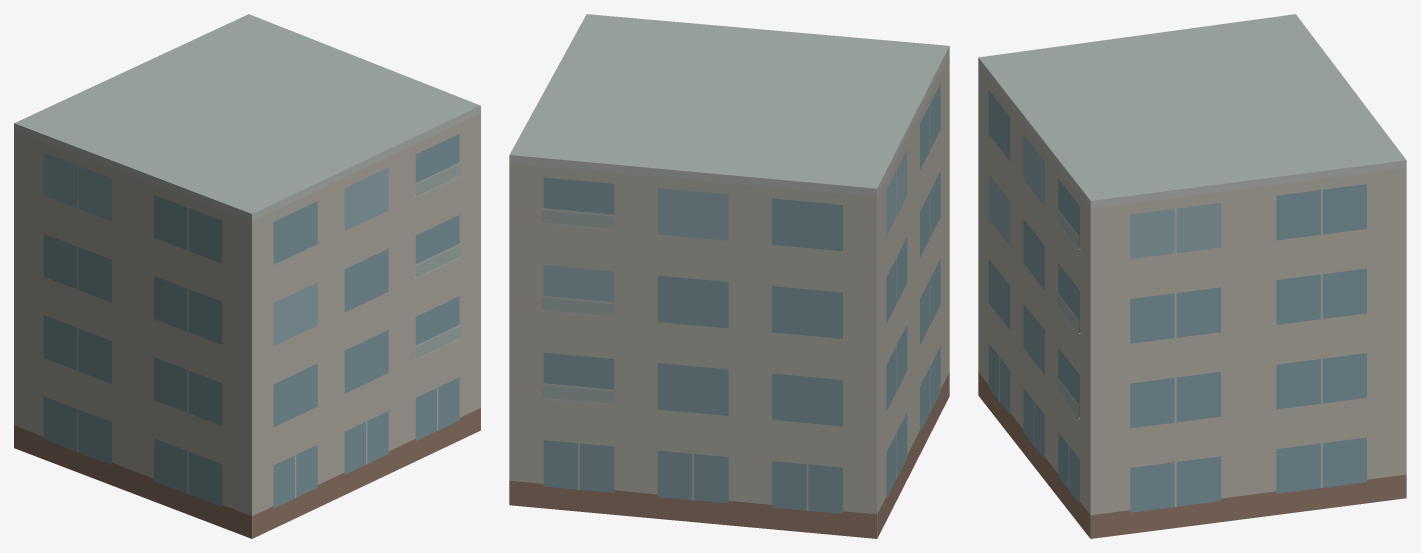
The model's file is survey-upis-32570832.glb.
The picture shows the model from 3 angles, left to right: view 1: azimuth 30°, elevation 25°; view 2: azimuth 150°, elevation 25°; view 3: azimuth 270°, elevation 25°; orthographic projection. The views are drawn at different scales.
Parts seen in each view (by area): view 1: survey-upis-32570832.tmp; view 2: survey-upis-32570832.tmp; view 3: survey-upis-32570832.tmp.
Part boxes in pixels (x1,y1,x2,y2): survey-upis-32570832.tmp: [14, 14, 480, 538]; survey-upis-32570832.tmp: [509, 14, 949, 538]; survey-upis-32570832.tmp: [978, 14, 1406, 538].
Bounding box in the file's own units: 12.58 × 10.6 × 12.18.
